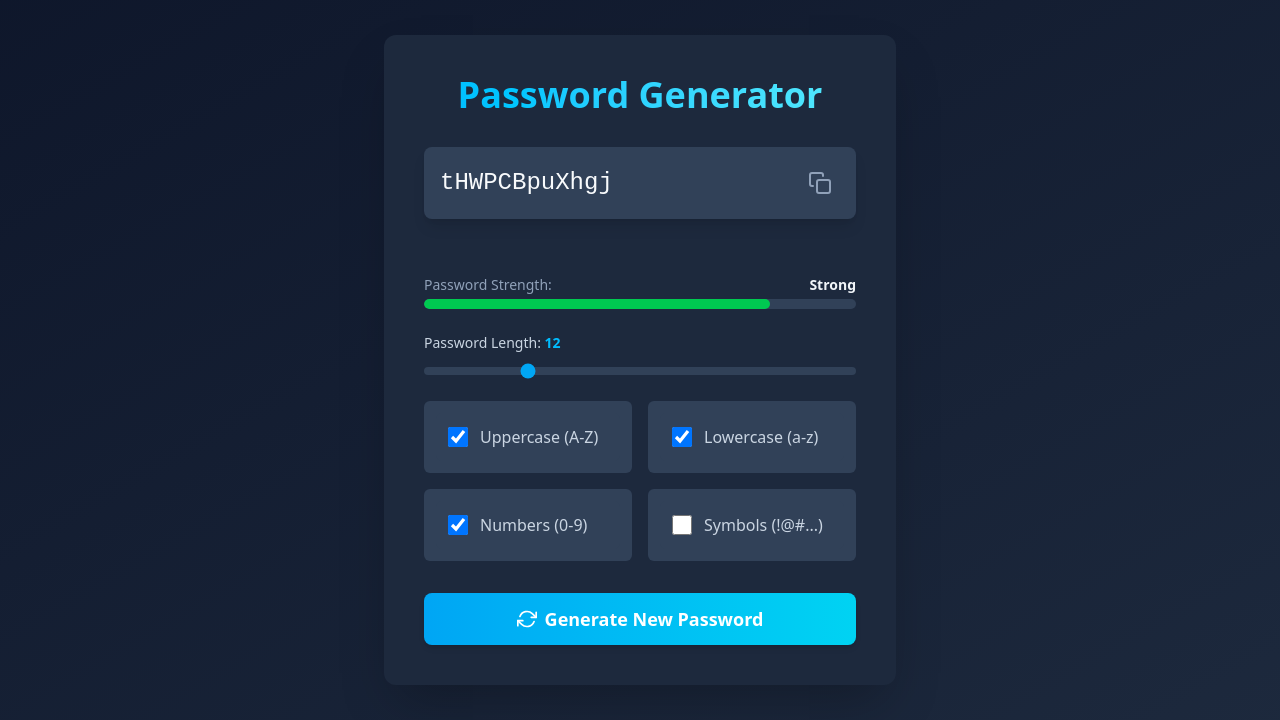
Password Generator E2E Tests › should change password length and content based on options
The width and height of the screenshot is (1280, 720).
Uncheck the checkbox with id "uppercase": (458, 437) x1=448 y1=427 x2=468 y2=447
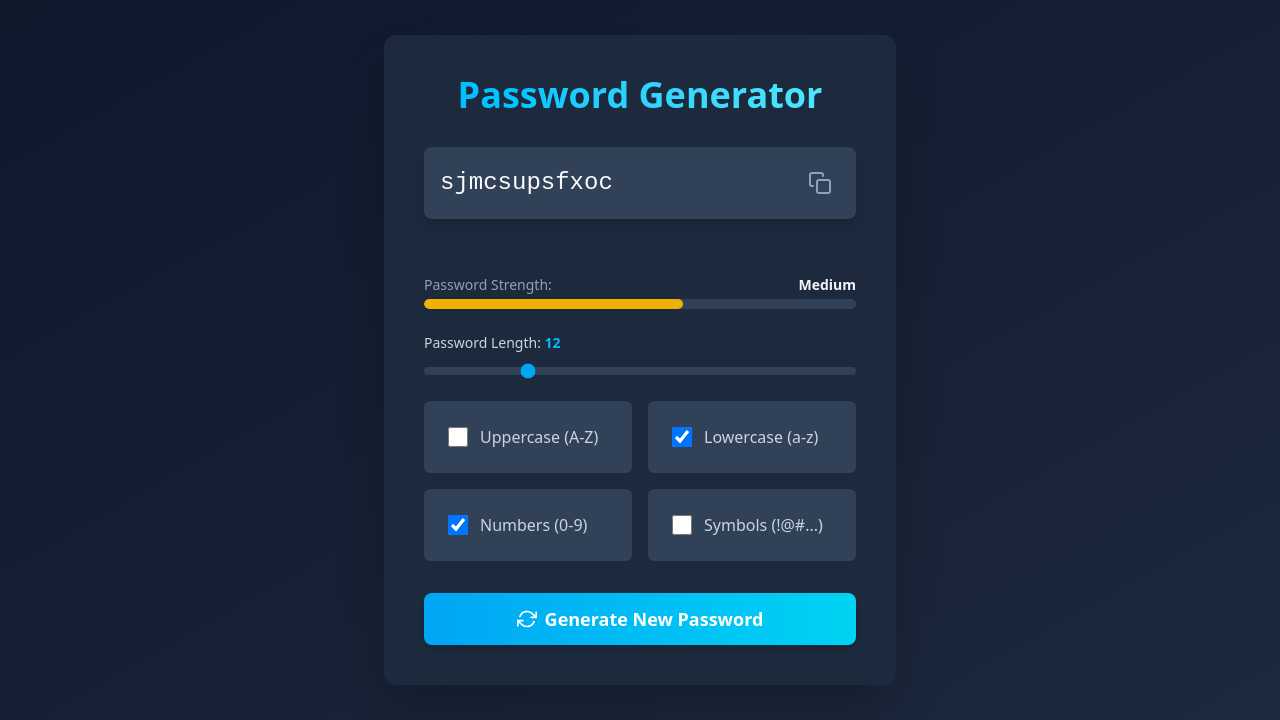
Click the button "Generate New Password": (640, 619) x1=424 y1=593 x2=856 y2=645
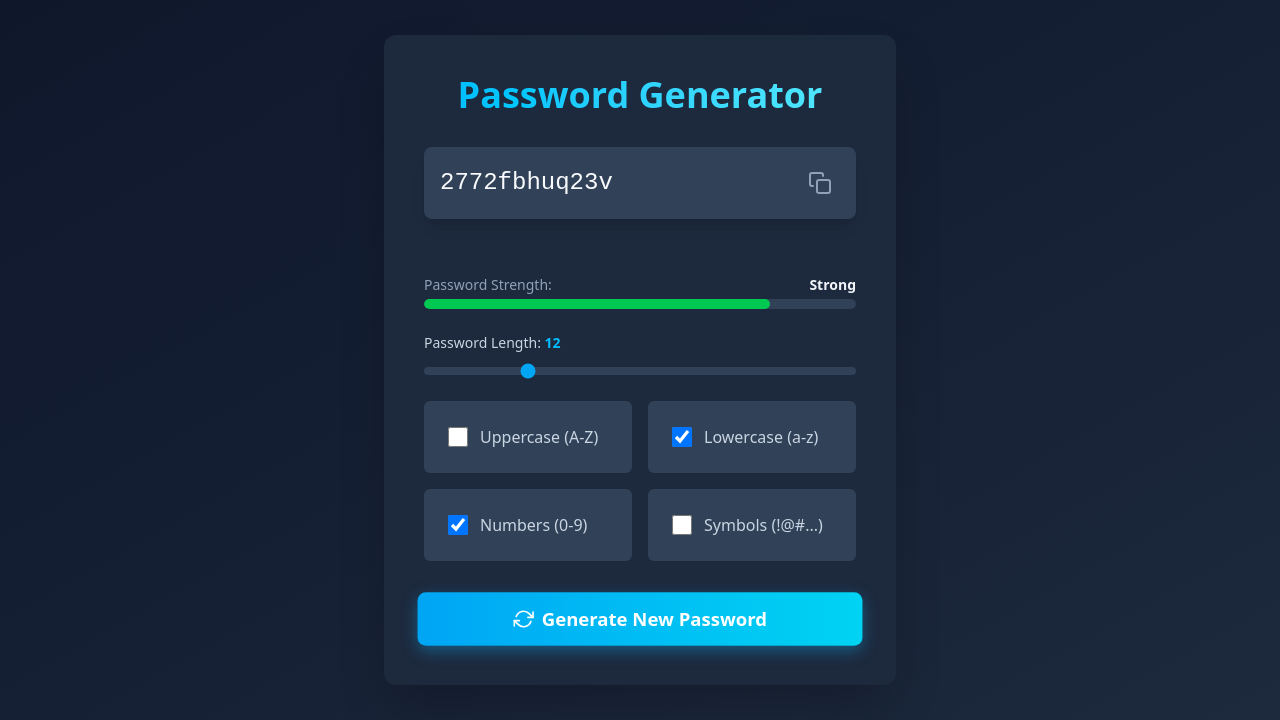
expect the field holds "^[a-z0-9]+$": met, box x1=440 y1=167 x2=800 y2=199
